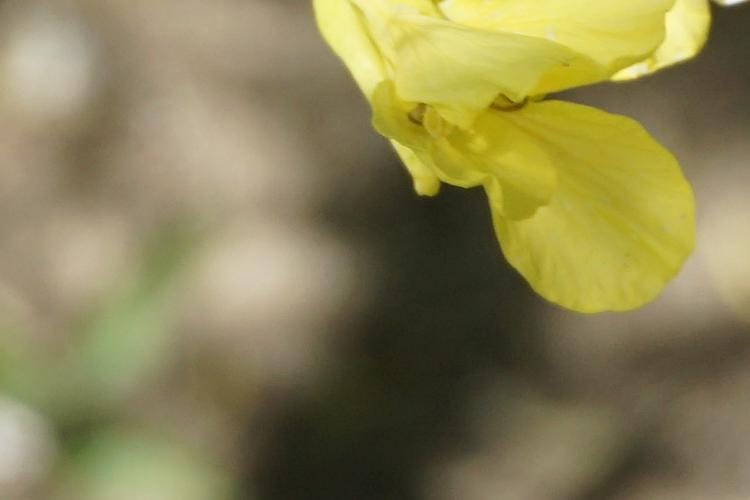yellow: (304, 1, 720, 316)
